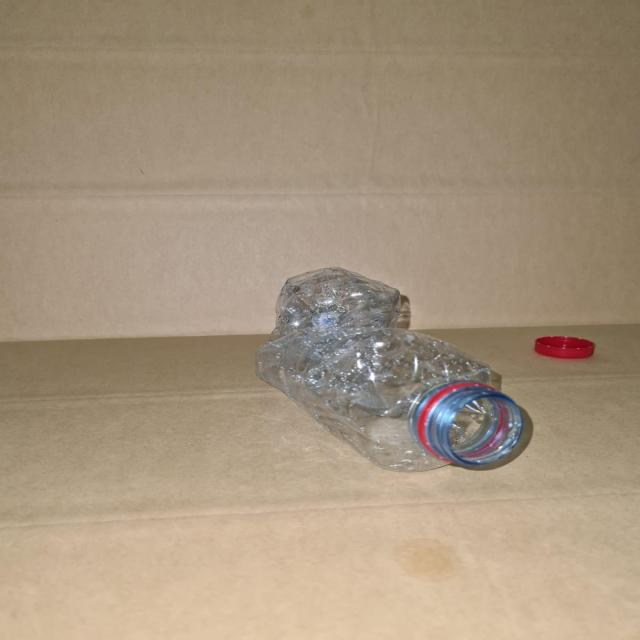bottle: (240, 272, 550, 491)
